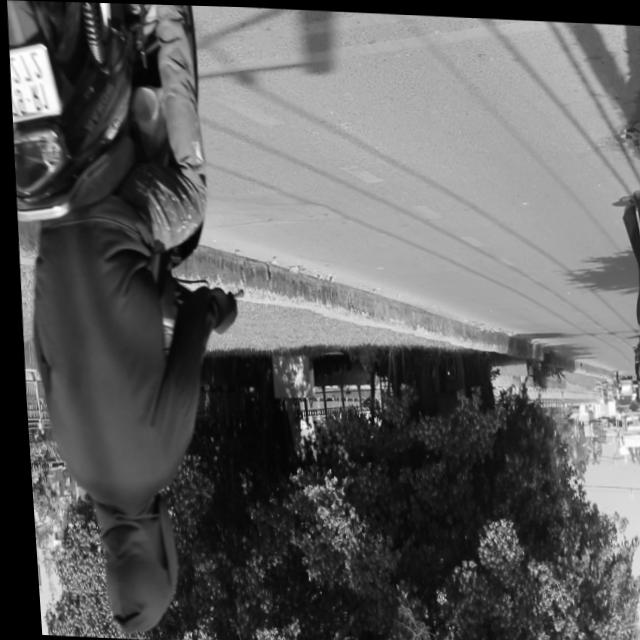helmet: (82, 484, 178, 637)
licenseplate: (0, 0, 252, 640)
nohelmet: (6, 44, 58, 122)
